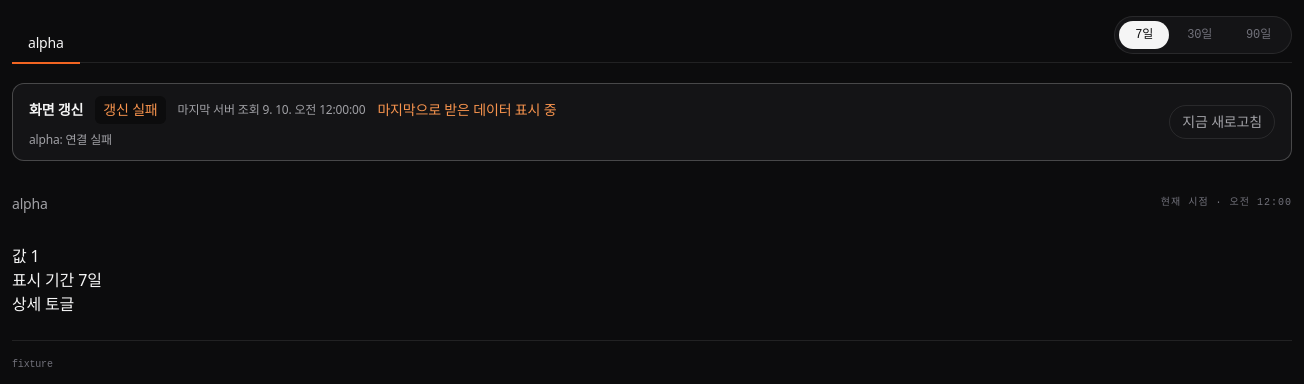
it: 대시보드 자동 갱신 › 캐시가 있어도 network 실패를 알리고 마지막 데이터·시각을 유지한다
Expected: the text "갱신 실패" is shown, [95, 96, 166, 124]
Expected: the message "alpha: 연결 실패" is shown, [29, 131, 112, 148]
Click the button "지금 새로고침" at (1222, 122), box [1169, 105, 1275, 139]
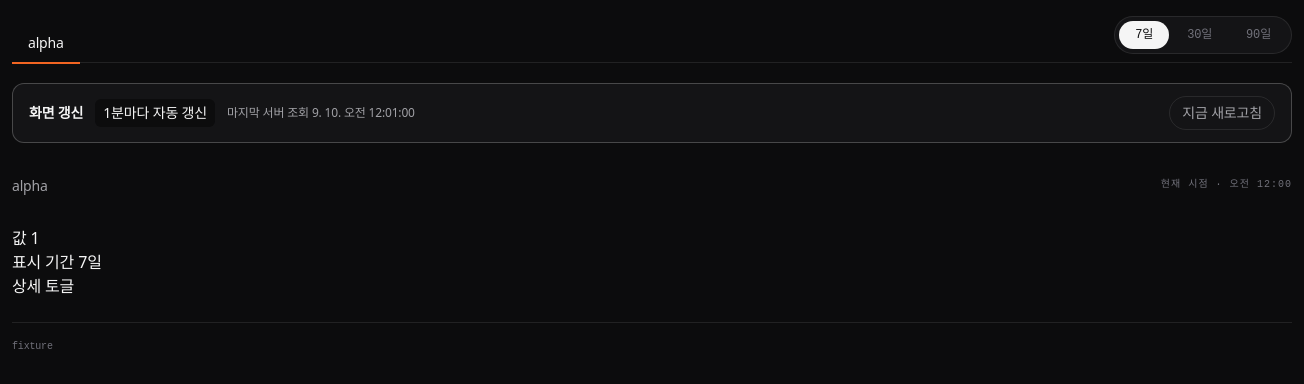
Expected: the message "alpha: 연결 실패" is gone
